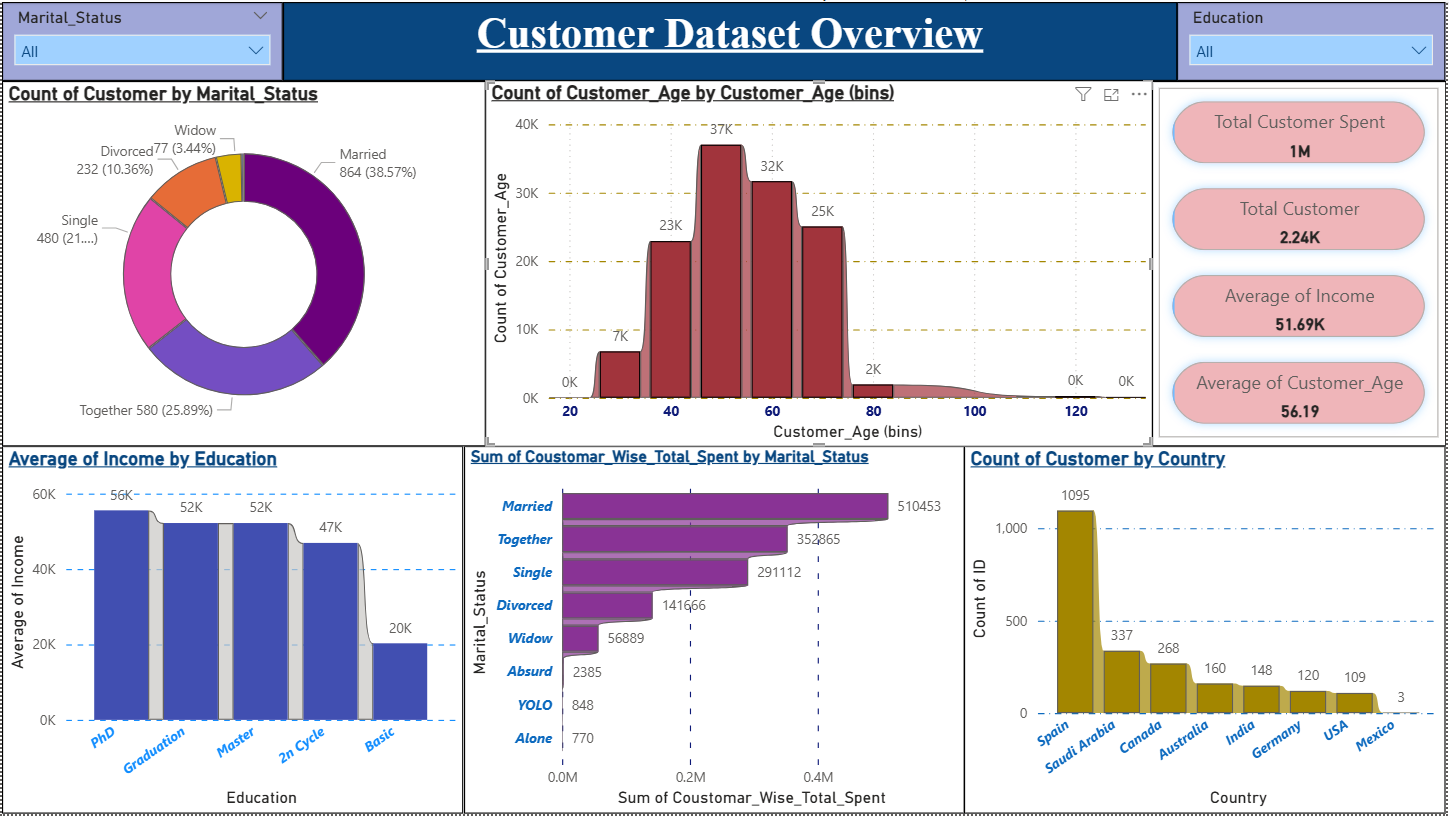

Layout of this report page (visuals, bound fields, positions):
{"tool":"powerbi","page":{"name":"Page 1","canvas":[1280,720],"ordinal":0},"visuals":[{"type":"columnChart","fields":{"Category":["marketing_data.Education"],"Y":["Avg(marketing_data. Income )"]},"box":[0,393.9,409.5,325.8],"z":0},{"type":"barChart","fields":{"Category":["marketing_data.Marital_Status"],"Y":["Sum(marketing_data.Coustomar_Wise_Total_Spent)"]},"box":[409.5,393.9,443.5,325.8],"z":1000},{"type":"columnChart","title":"Count of Customer by Country","fields":{"Category":["marketing_data.Country"],"Y":["CountNonNull(marketing_data.ID)"]},"box":[853,393.9,427,325.8],"z":1001},{"type":"donutChart","title":"Count of Customer by Marital_Status","fields":{"Category":["marketing_data.Marital_Status"],"Y":["CountNonNull(marketing_data.ID)"]},"box":[0,70,428.9,323.9],"z":1002},{"type":"cardVisual","fields":{"Data":["Sum(marketing_data.Coustomar_Wise_Total_Spent)","CountNonNull(marketing_data.ID)","Avg(marketing_data. Income )","Avg(marketing_data.Customer_Age)"]},"box":[1019.3,70,260.7,323.9],"z":1003},{"type":"slicer","fields":{"Values":["marketing_data.Marital_Status"]},"box":[0,0,249,70],"z":1004},{"type":"slicer","fields":{"Values":["marketing_data.Education"]},"box":[1041.7,0,238.3,70],"z":1005},{"type":"columnChart","fields":{"Y":["Sum(marketing_data.Customer_Age)"],"Category":["marketing_data.Customer_Age (bins)"]},"box":[428.9,70,590.4,323.9],"z":1006},{"type":"textbox","box":[249,0,792.7,70],"z":1007}]}

Visuals, with their boxes in screenshot pixels (x1, y1, x2, y2), scaled from the page's 1280x720 canvas onto the 1449x816 screenshot:
columnChart - marketing_data.Education x Avg(marketing_data. Income ): [left=0, top=446, right=464, bottom=815]
barChart - marketing_data.Marital_Status x Sum(marketing_data.Coustomar_Wise_Total_Spent): [left=464, top=446, right=966, bottom=815]
"Count of Customer by Country" columnChart: [left=966, top=446, right=1448, bottom=815]
"Count of Customer by Marital_Status" donutChart: [left=0, top=79, right=486, bottom=446]
cardVisual - Sum(marketing_data.Coustomar_Wise_Total_Spent) x CountNonNull(marketing_data.ID): [left=1154, top=79, right=1448, bottom=446]
slicer - marketing_data.Marital_Status: [left=0, top=0, right=282, bottom=79]
slicer - marketing_data.Education: [left=1179, top=0, right=1448, bottom=79]
columnChart - Sum(marketing_data.Customer_Age) x marketing_data.Customer_Age (bins): [left=486, top=79, right=1154, bottom=446]
textbox: [left=282, top=0, right=1179, bottom=79]
